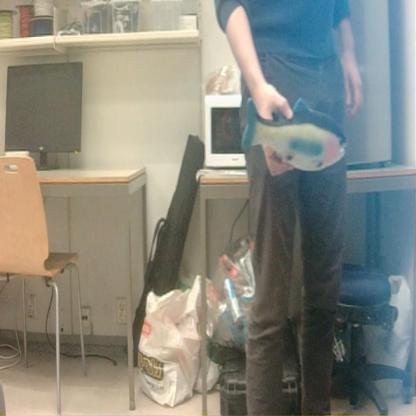rubberfish: (240, 90, 348, 178)
